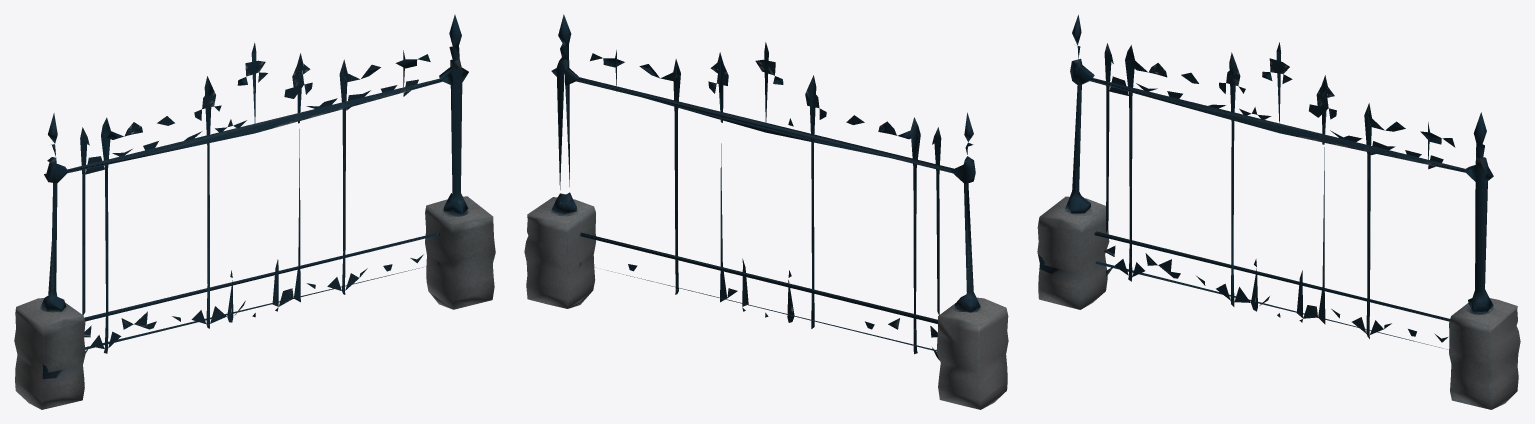
Rendered from iron_fence.glb.
3 renders of one model, left to right at view 1: azimuth 30°, elevation 25°; view 2: azimuth 150°, elevation 25°; view 3: azimuth 330°, elevation 25°, orthographic.
Size of the model in its own units: 0.9533 by 0.6167 by 0.1089.
1 material, 1 textured.
